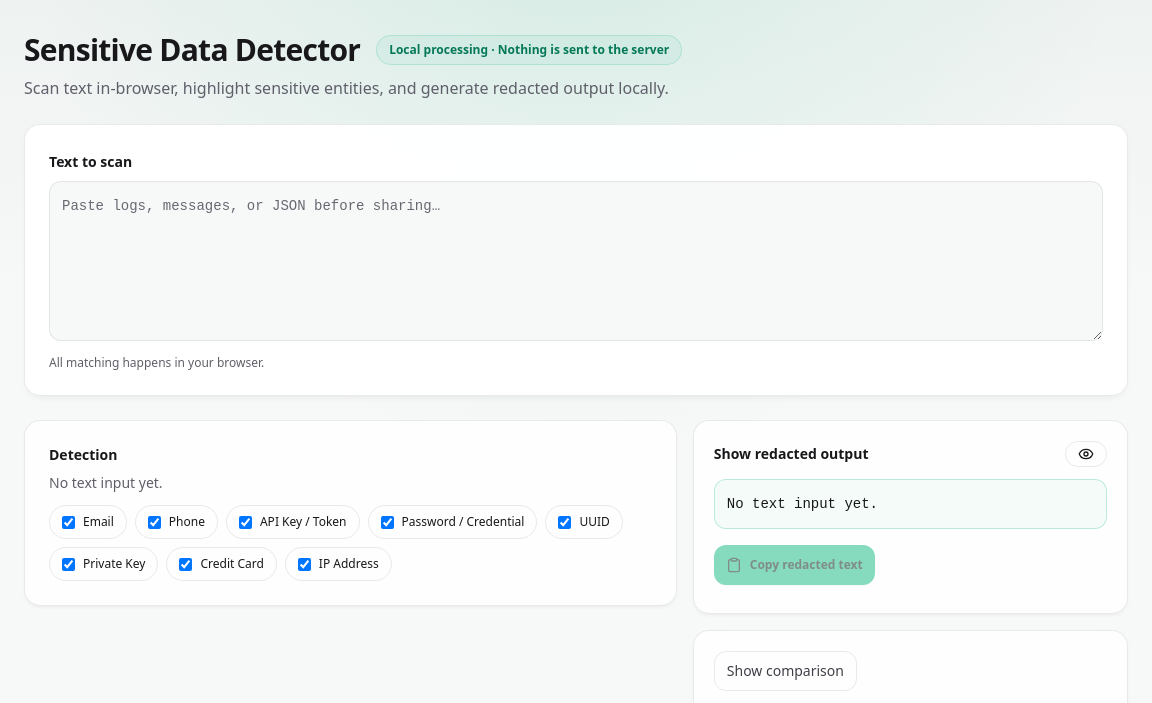
Test: SensitiveDataClient › shows redaction mapping in comparison mode
The width and height of the screenshot is (1152, 703).
Type "alice@example.com +86 13800138000" into the text box labelled "Text to scan". click: coordinates (576, 261)
box: [49,181,1103,341]
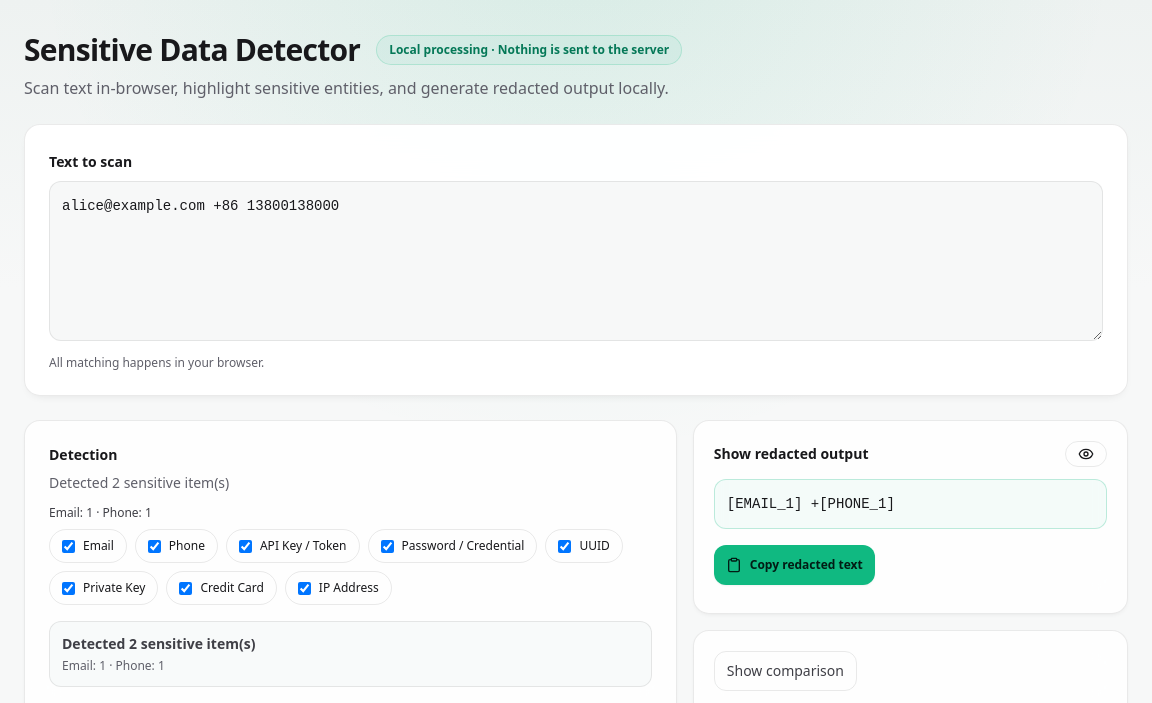
Click the button "Show comparison". click: coordinates (785, 671)
box: [714,651,857,691]
(page scrolled)
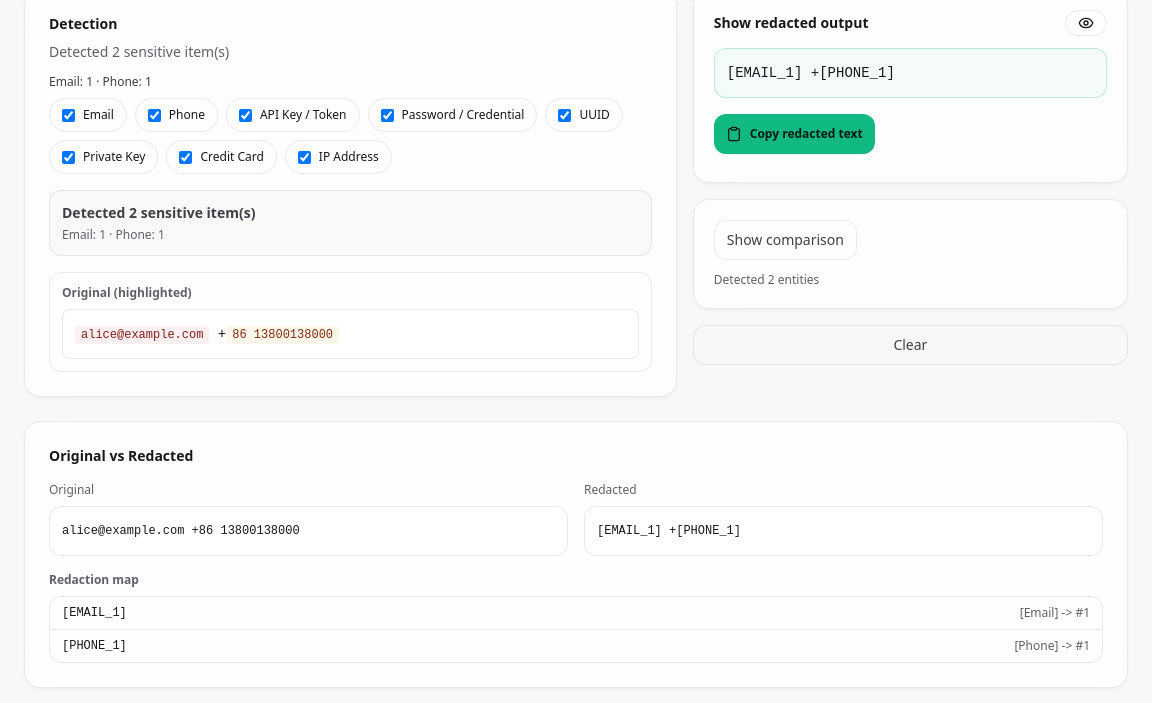
Expected: the text "Redaction map" is shown, [49,571,139,588]
Expected: the text "[EMAIL_1]" is shown, [62,605,127,621]
